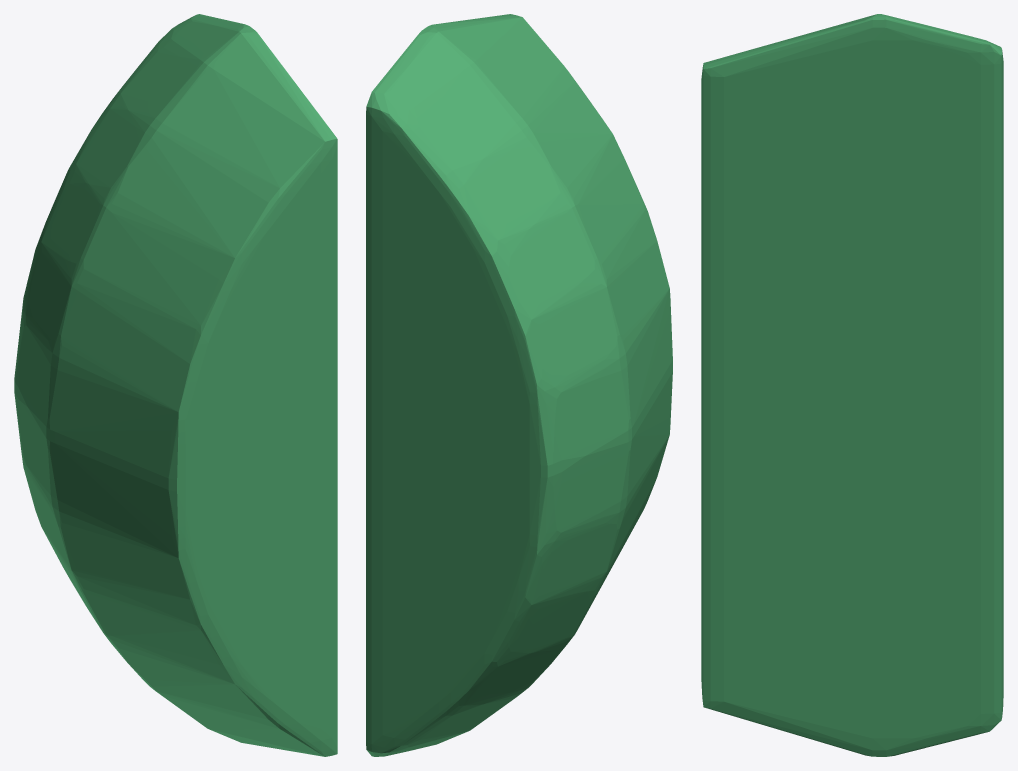
Rendered from right_forearm_collision_part_3.obj.
3 views of the same model, side by side, from view 1: azimuth 30°, elevation 25°; view 2: azimuth 150°, elevation 25°; view 3: azimuth 270°, elevation 25° (orthographic). The views are drawn at different scales.
Bounding box in the file's own units: 39.34 × 129 × 48.06.
